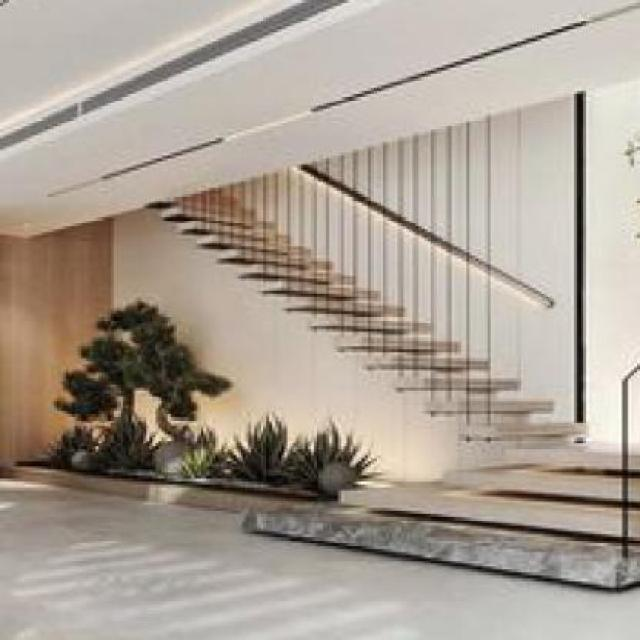stair: (222, 440, 638, 546)
